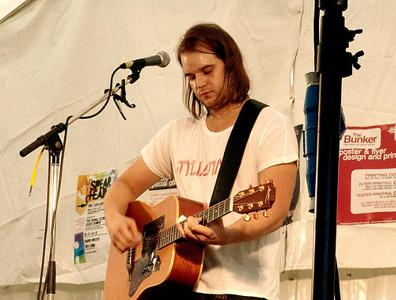person: (103, 22, 298, 299)
